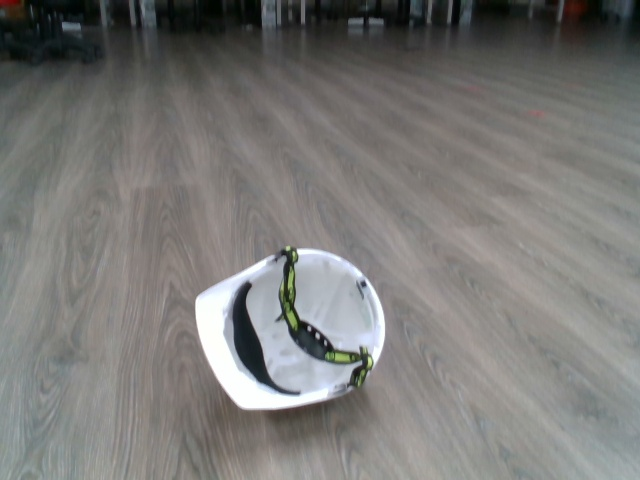helmet: (191, 241, 392, 416)
